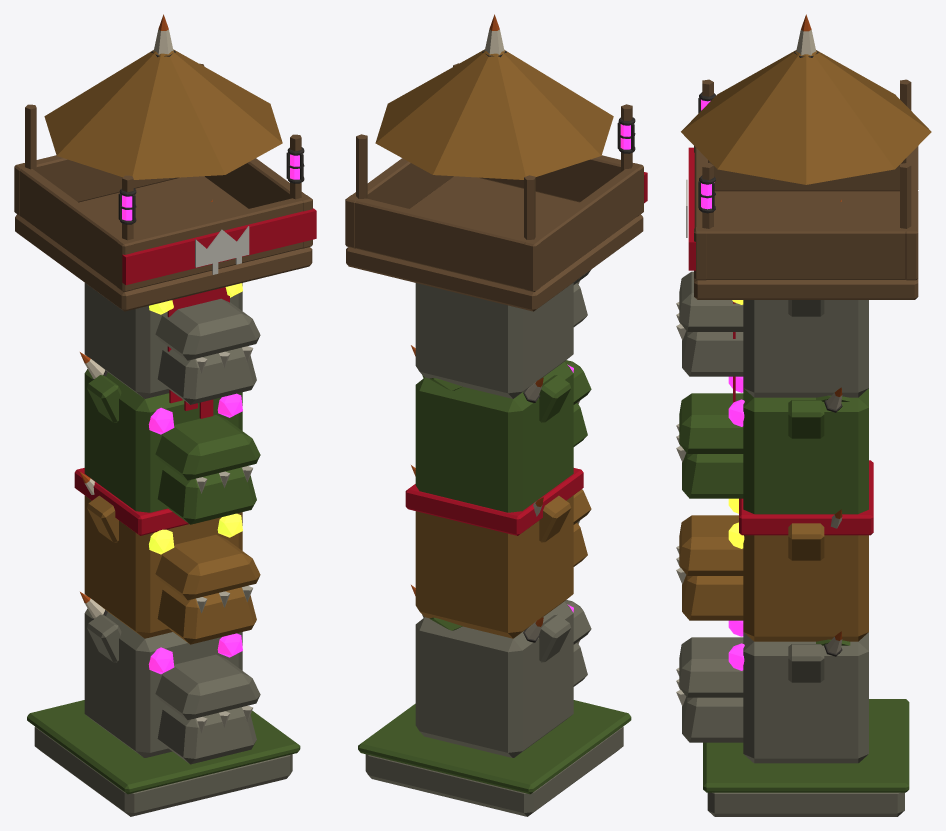
File: rb_tower.glb
The picture shows the model from 3 angles, left to right: view 1: azimuth 30°, elevation 25°; view 2: azimuth 150°, elevation 25°; view 3: azimuth 270°, elevation 25°; orthographic projection.
Parts seen in each view (by area): view 1: rb_tower; view 2: rb_tower; view 3: rb_tower.
Part boxes in pixels (x1=…): rb_tower: x1=14, y1=14, x2=316, y2=816; rb_tower: x1=345, y1=14, x2=647, y2=816; rb_tower: x1=676, y1=14, x2=931, y2=816.
Size of the model in its own units: 2.8 by 9.4 by 2.85.
